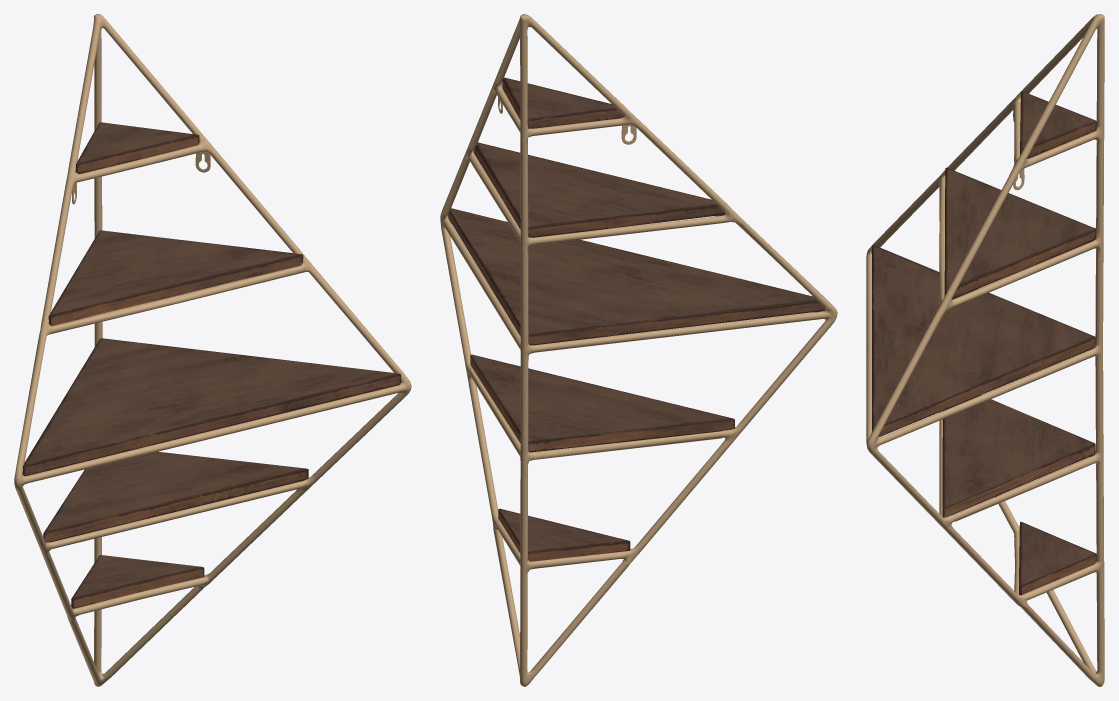
File: abo-B07HSLQY2F.glb
The picture shows the model from 3 angles, left to right: view 1: azimuth 30°, elevation 25°; view 2: azimuth 150°, elevation 25°; view 3: azimuth 270°, elevation 25°; orthographic projection.
Bounding box in the file's own units: 0.564 × 0.913 × 0.294.
1 material, 1 textured.
